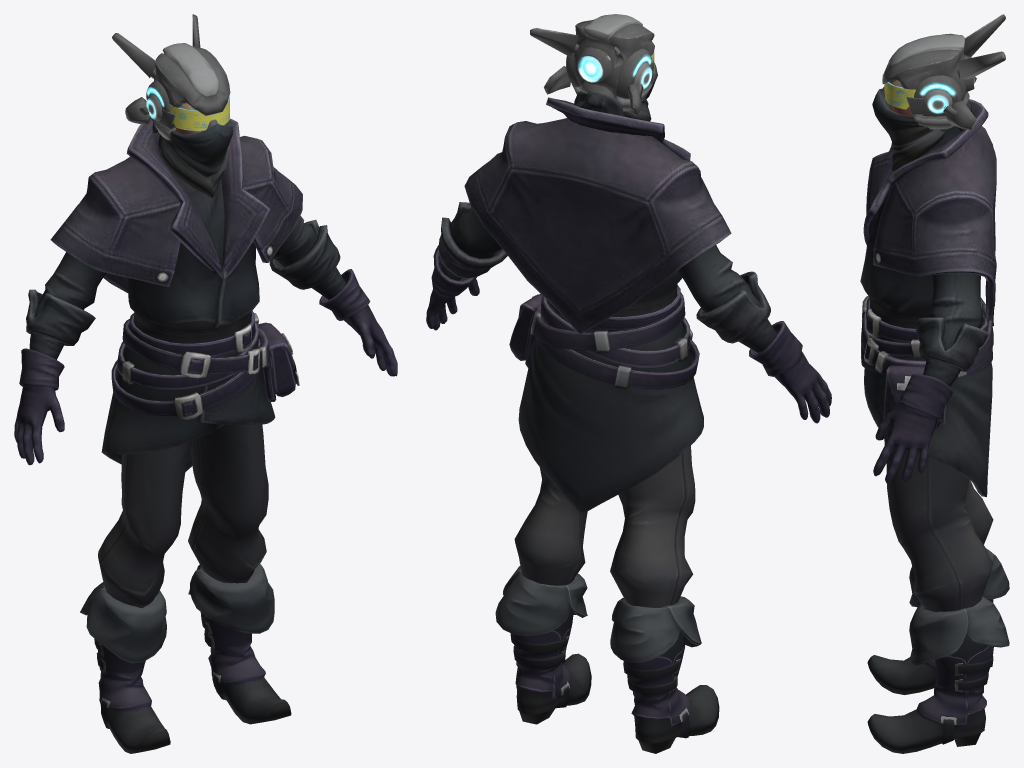
File: readyMe.fbx
3 views of the same model, side by side, from view 1: azimuth 30°, elevation 25°; view 2: azimuth 150°, elevation 25°; view 3: azimuth 270°, elevation 25° (orthographic). The views are drawn at different scales.
Visible parts, largest first — view 1: Wolf3D_Outfit_Top, Wolf3D_Outfit_Bottom, Wolf3D_Outfit_Footwear, Wolf3D_Headwear, Wolf3D_Facewear, Wolf3D_Glasses; view 2: Wolf3D_Outfit_Top, Wolf3D_Outfit_Bottom, Wolf3D_Outfit_Footwear, Wolf3D_Headwear, Wolf3D_Facewear; view 3: Wolf3D_Outfit_Top, Wolf3D_Outfit_Bottom, Wolf3D_Outfit_Footwear, Wolf3D_Headwear, Wolf3D_Facewear, Wolf3D_Glasses.
Boxes of the visible parts, x1,y1,x2,y2 form: Wolf3D_Outfit_Top: (14, 117, 397, 471); Wolf3D_Outfit_Bottom: (98, 311, 299, 608); Wolf3D_Outfit_Footwear: (80, 563, 291, 753); Wolf3D_Headwear: (112, 14, 230, 140); Wolf3D_Facewear: (152, 120, 233, 198); Wolf3D_Glasses: (169, 95, 229, 130); Wolf3D_Outfit_Top: (426, 97, 831, 514); Wolf3D_Outfit_Bottom: (509, 284, 699, 607); Wolf3D_Outfit_Footwear: (495, 566, 719, 753); Wolf3D_Headwear: (530, 14, 654, 115); Wolf3D_Facewear: (574, 63, 657, 121); Wolf3D_Outfit_Top: (860, 99, 996, 496); Wolf3D_Outfit_Bottom: (861, 295, 993, 611); Wolf3D_Outfit_Footwear: (867, 548, 1009, 753); Wolf3D_Headwear: (881, 14, 1005, 129); Wolf3D_Facewear: (872, 88, 971, 171); Wolf3D_Glasses: (884, 82, 915, 109).
Bounding box in the file's own units: 106 × 184 × 36.6.
Materials: 9 (9 with a texture image).
